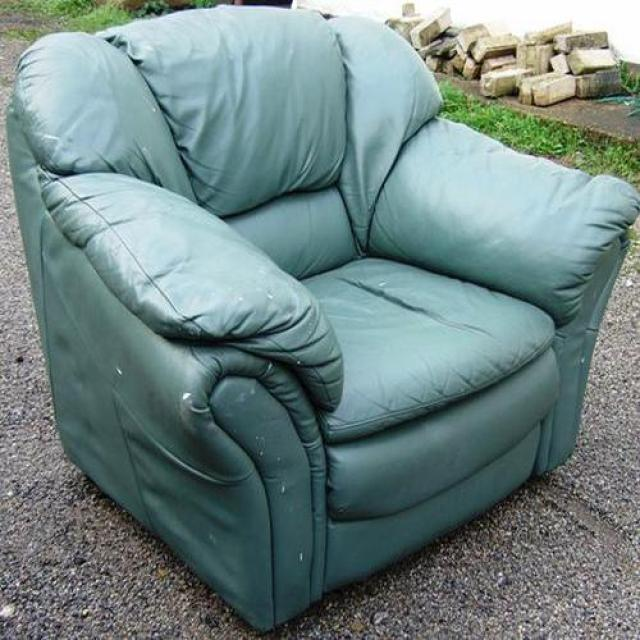sofa: (5, 4, 640, 634)
